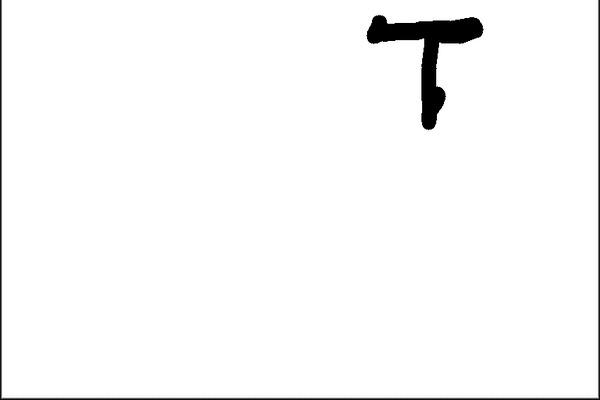T: (360, 12, 497, 132)
